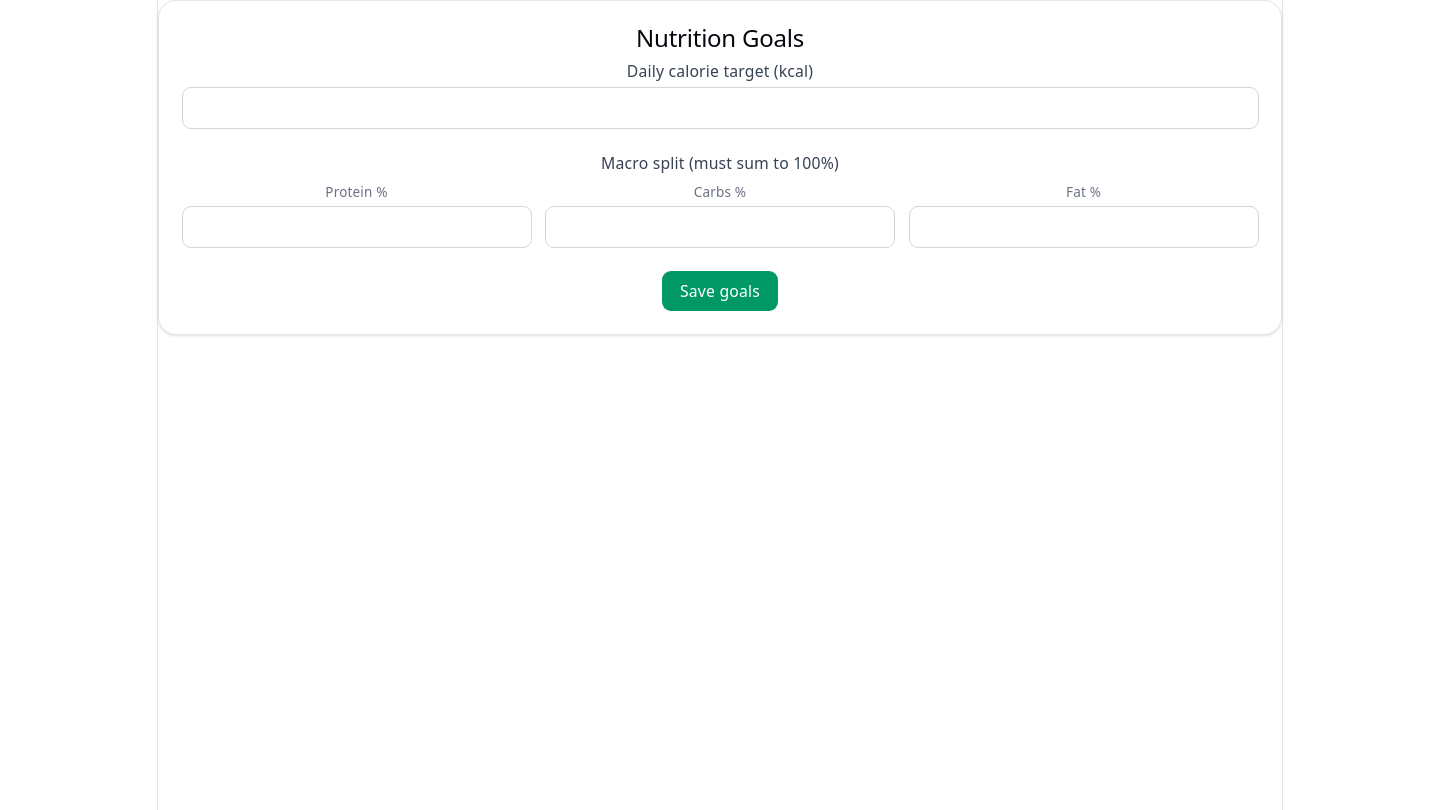
Test: GoalsEditor — macro sum validation (Req 7.3) › does not show the macro error when percentages sum to exactly 100
In the number field labelled "Daily calorie target (kcal)": (720, 108) [182,87,1258,129], type "2000"
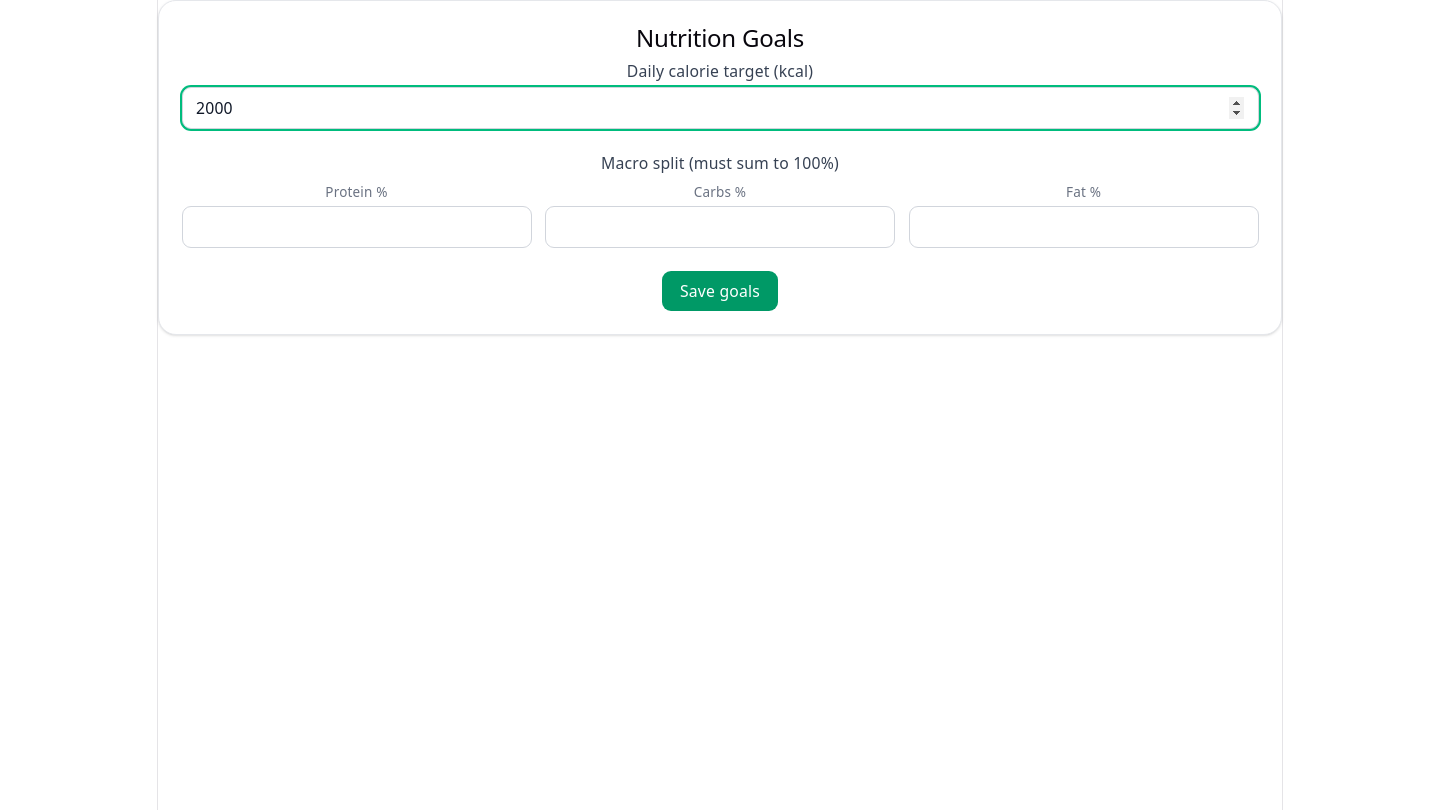
In the number field named "protein percentage": (356, 227) [182,206,532,248], type "30"
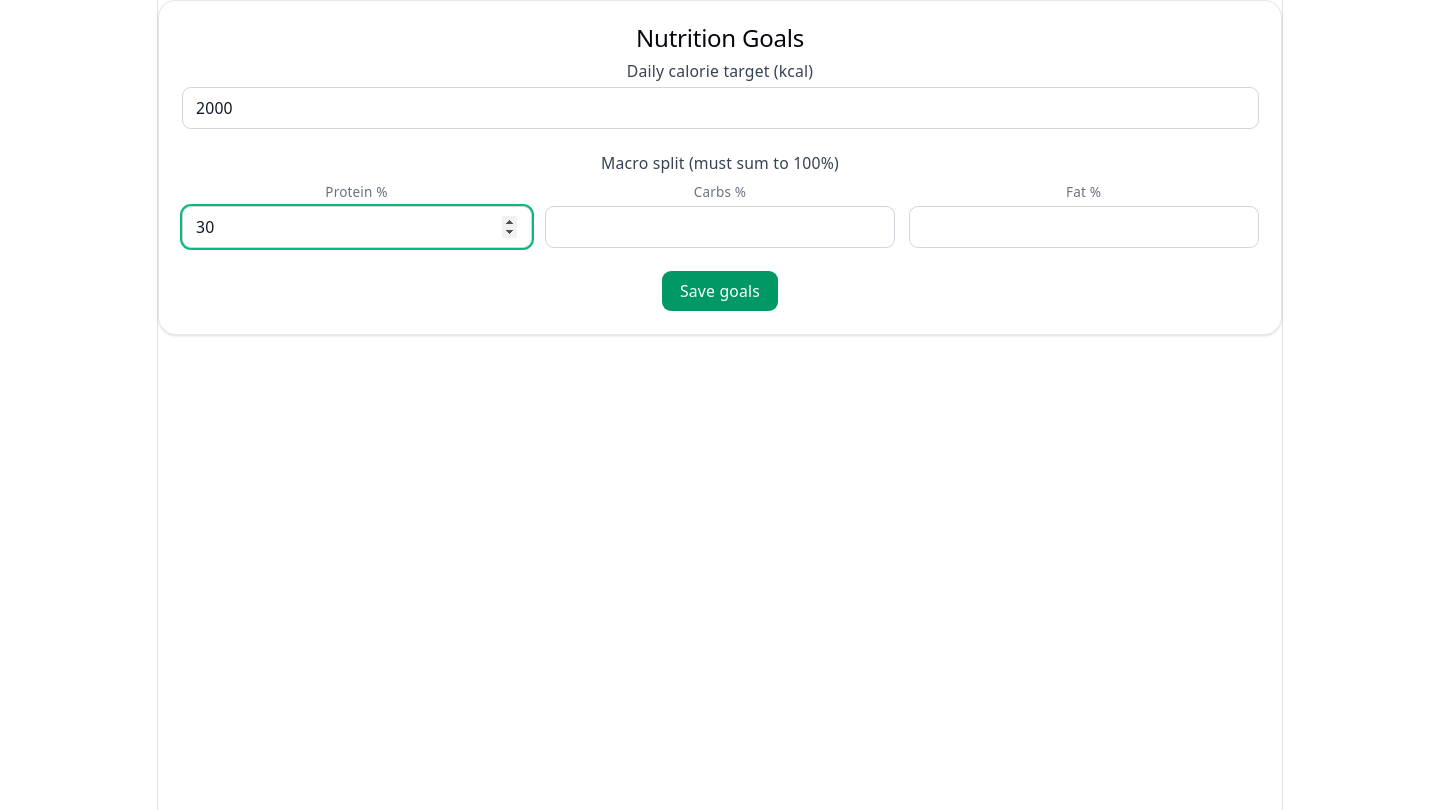
In the number field named "carbohydrates percentage": (720, 227) [545,206,895,248], type "40"
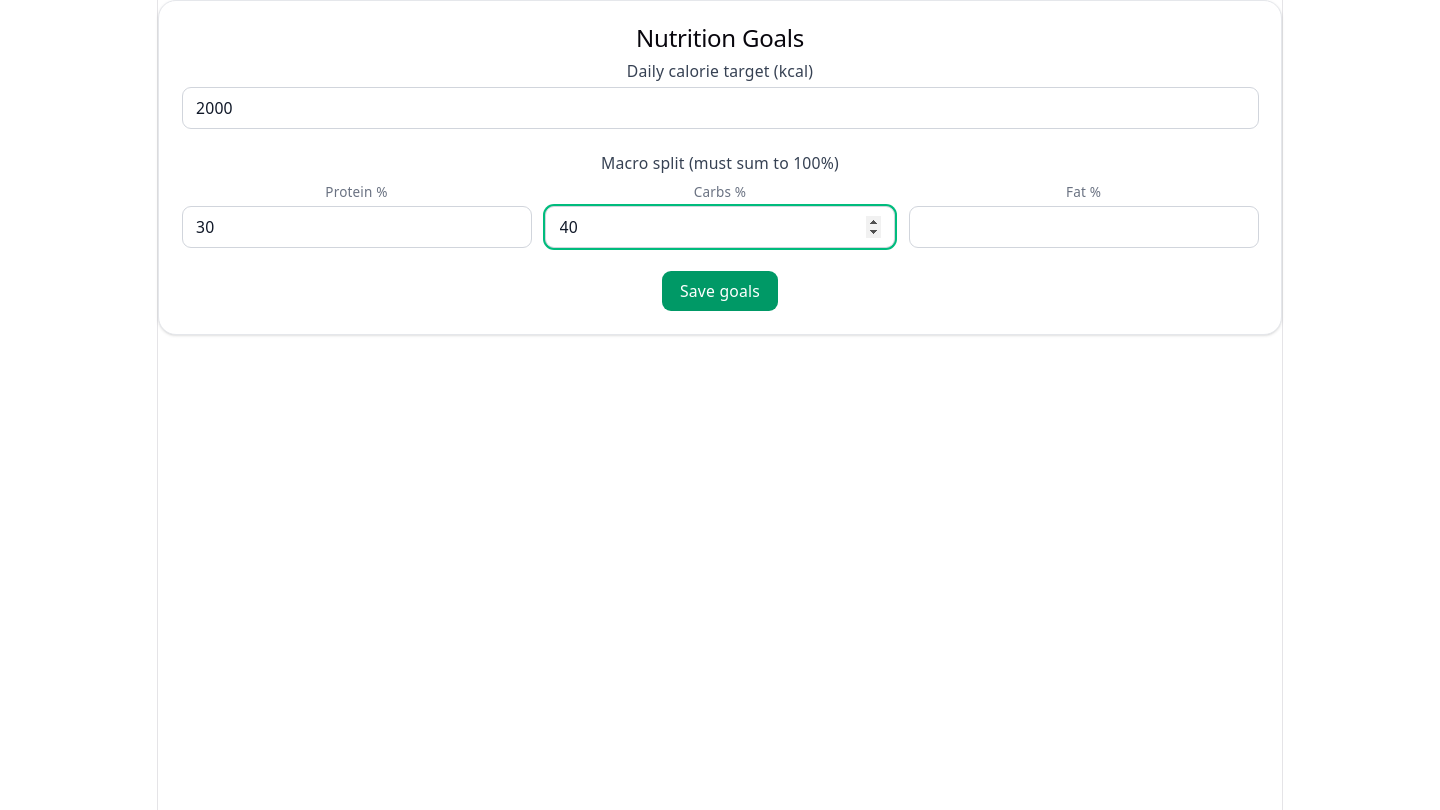
In the number field named "fat percentage": (1084, 227) [908,206,1258,248], type "30"
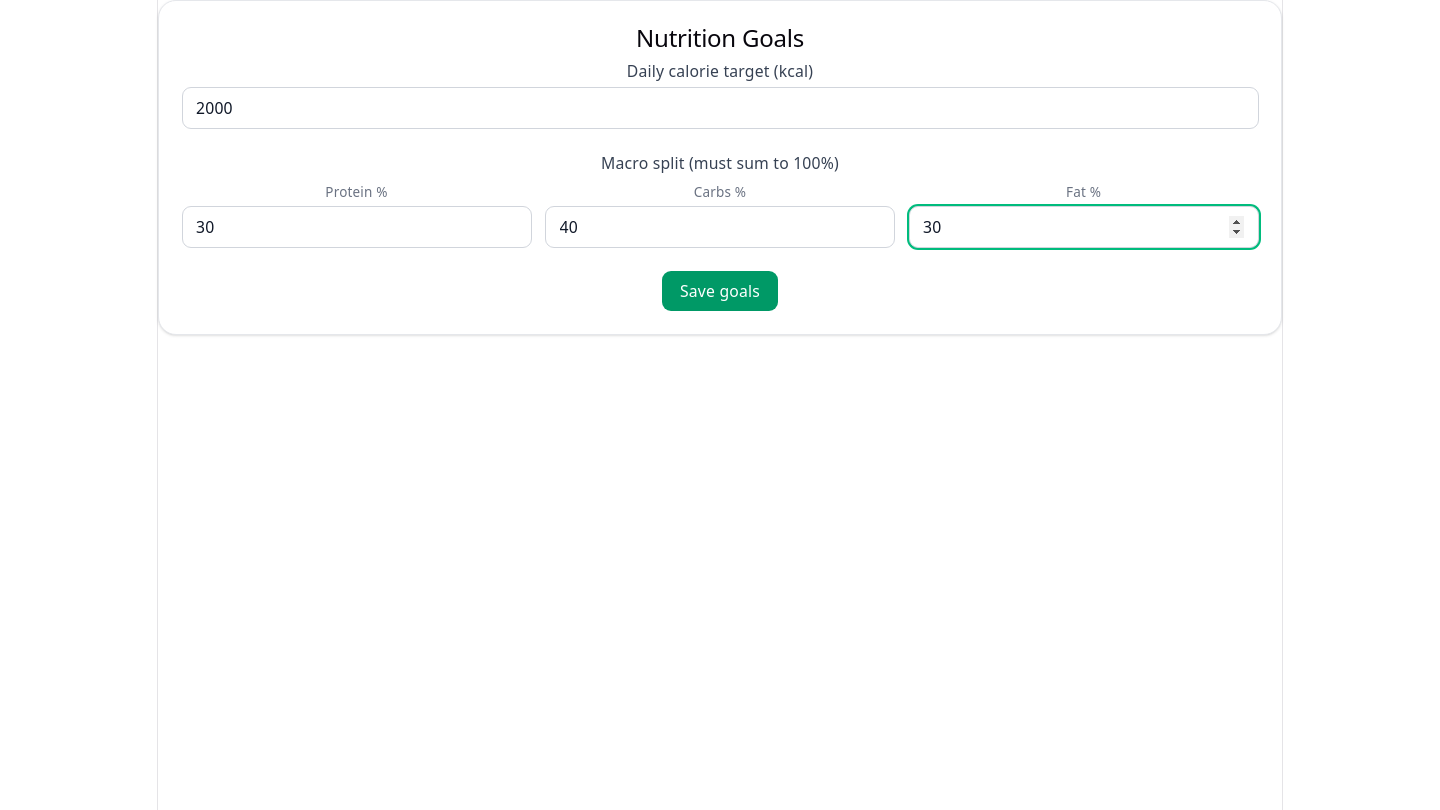
Click the button "Save goals": click(720, 291) [662,271,778,311]
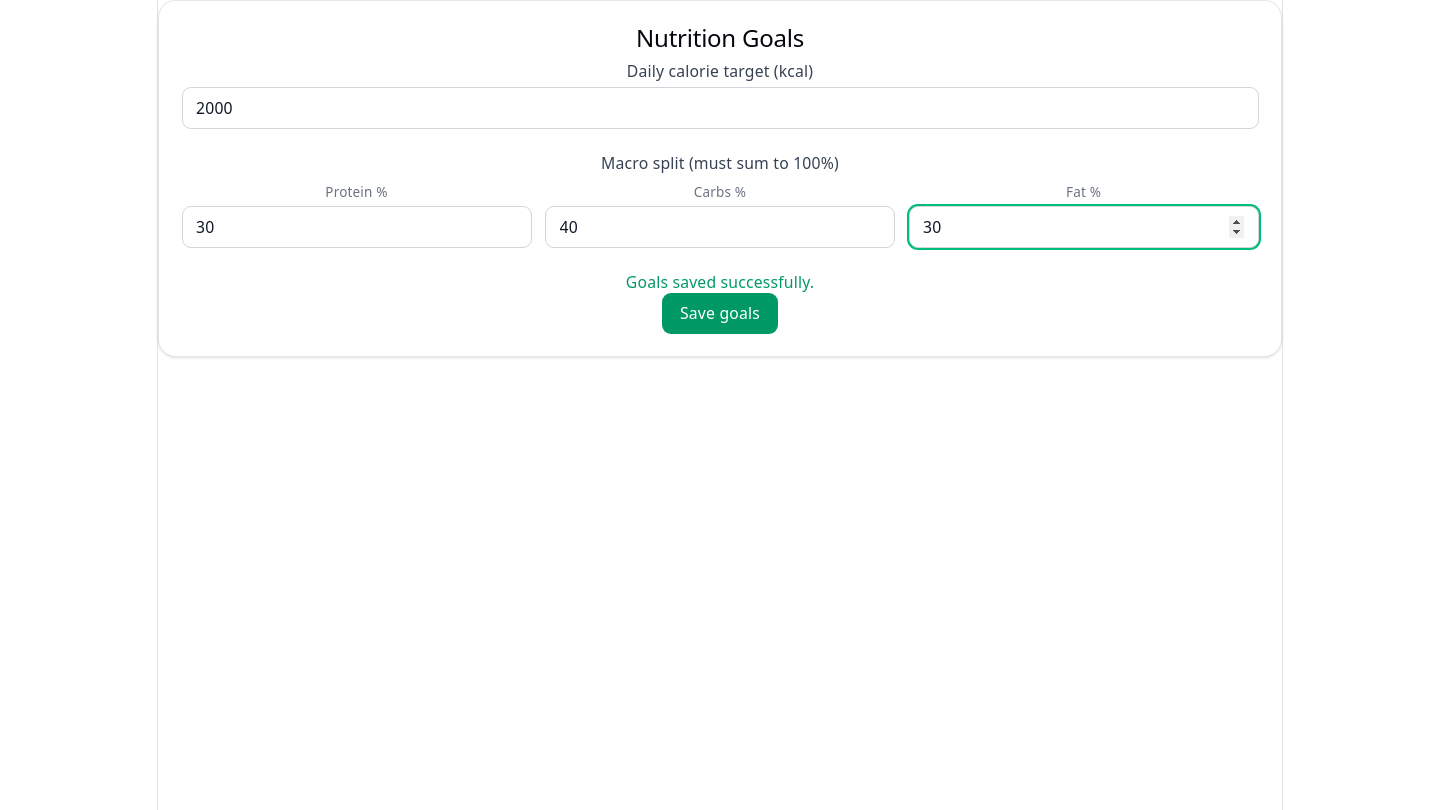
Expected: the text "Goals saved successfully." is shown, [626,271,814,293]
